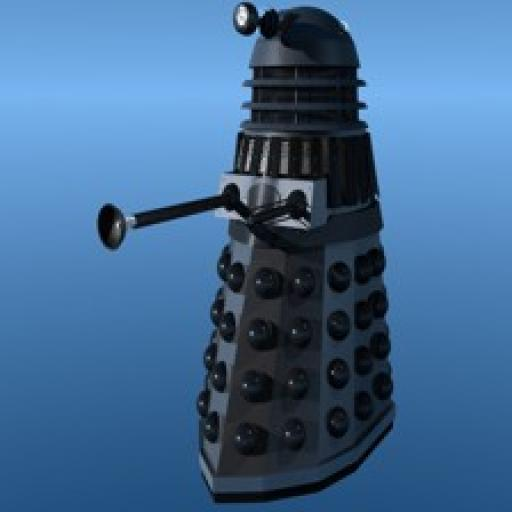dalek: (92, 0, 398, 504)
